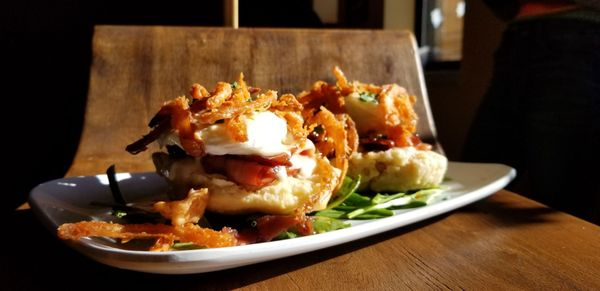soup: (125, 77, 349, 216)
